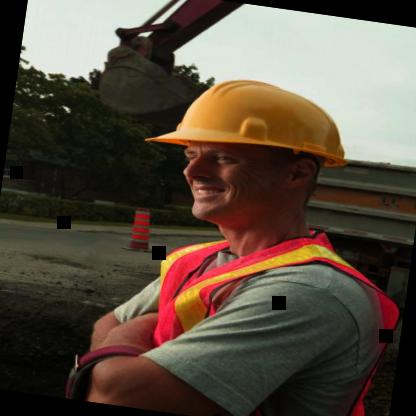helmet: (119, 48, 385, 252)
